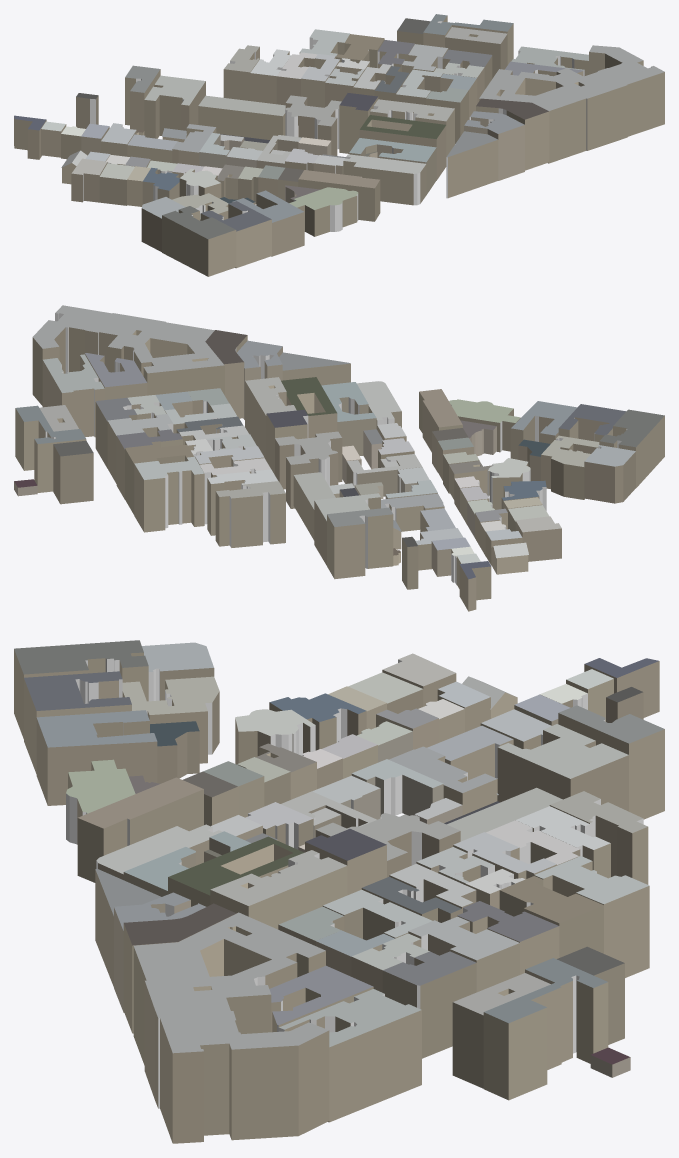
3 renders of one model, top to bottom at view 1: azimuth 30°, elevation 25°; view 2: azimuth 150°, elevation 25°; view 3: azimuth 270°, elevation 25°, orthographic. The views are drawn at different scales.
Visible parts, largest first — view 1: tuile; view 2: tuile; view 3: tuile.
Boxes of the visible parts, box(x1,y1,x2,y2) form: tuile: box(14, 14, 664, 276); tuile: box(14, 305, 664, 611); tuile: box(14, 640, 664, 1143).
Size of the model in its own units: 288 by 28.8 by 179.
